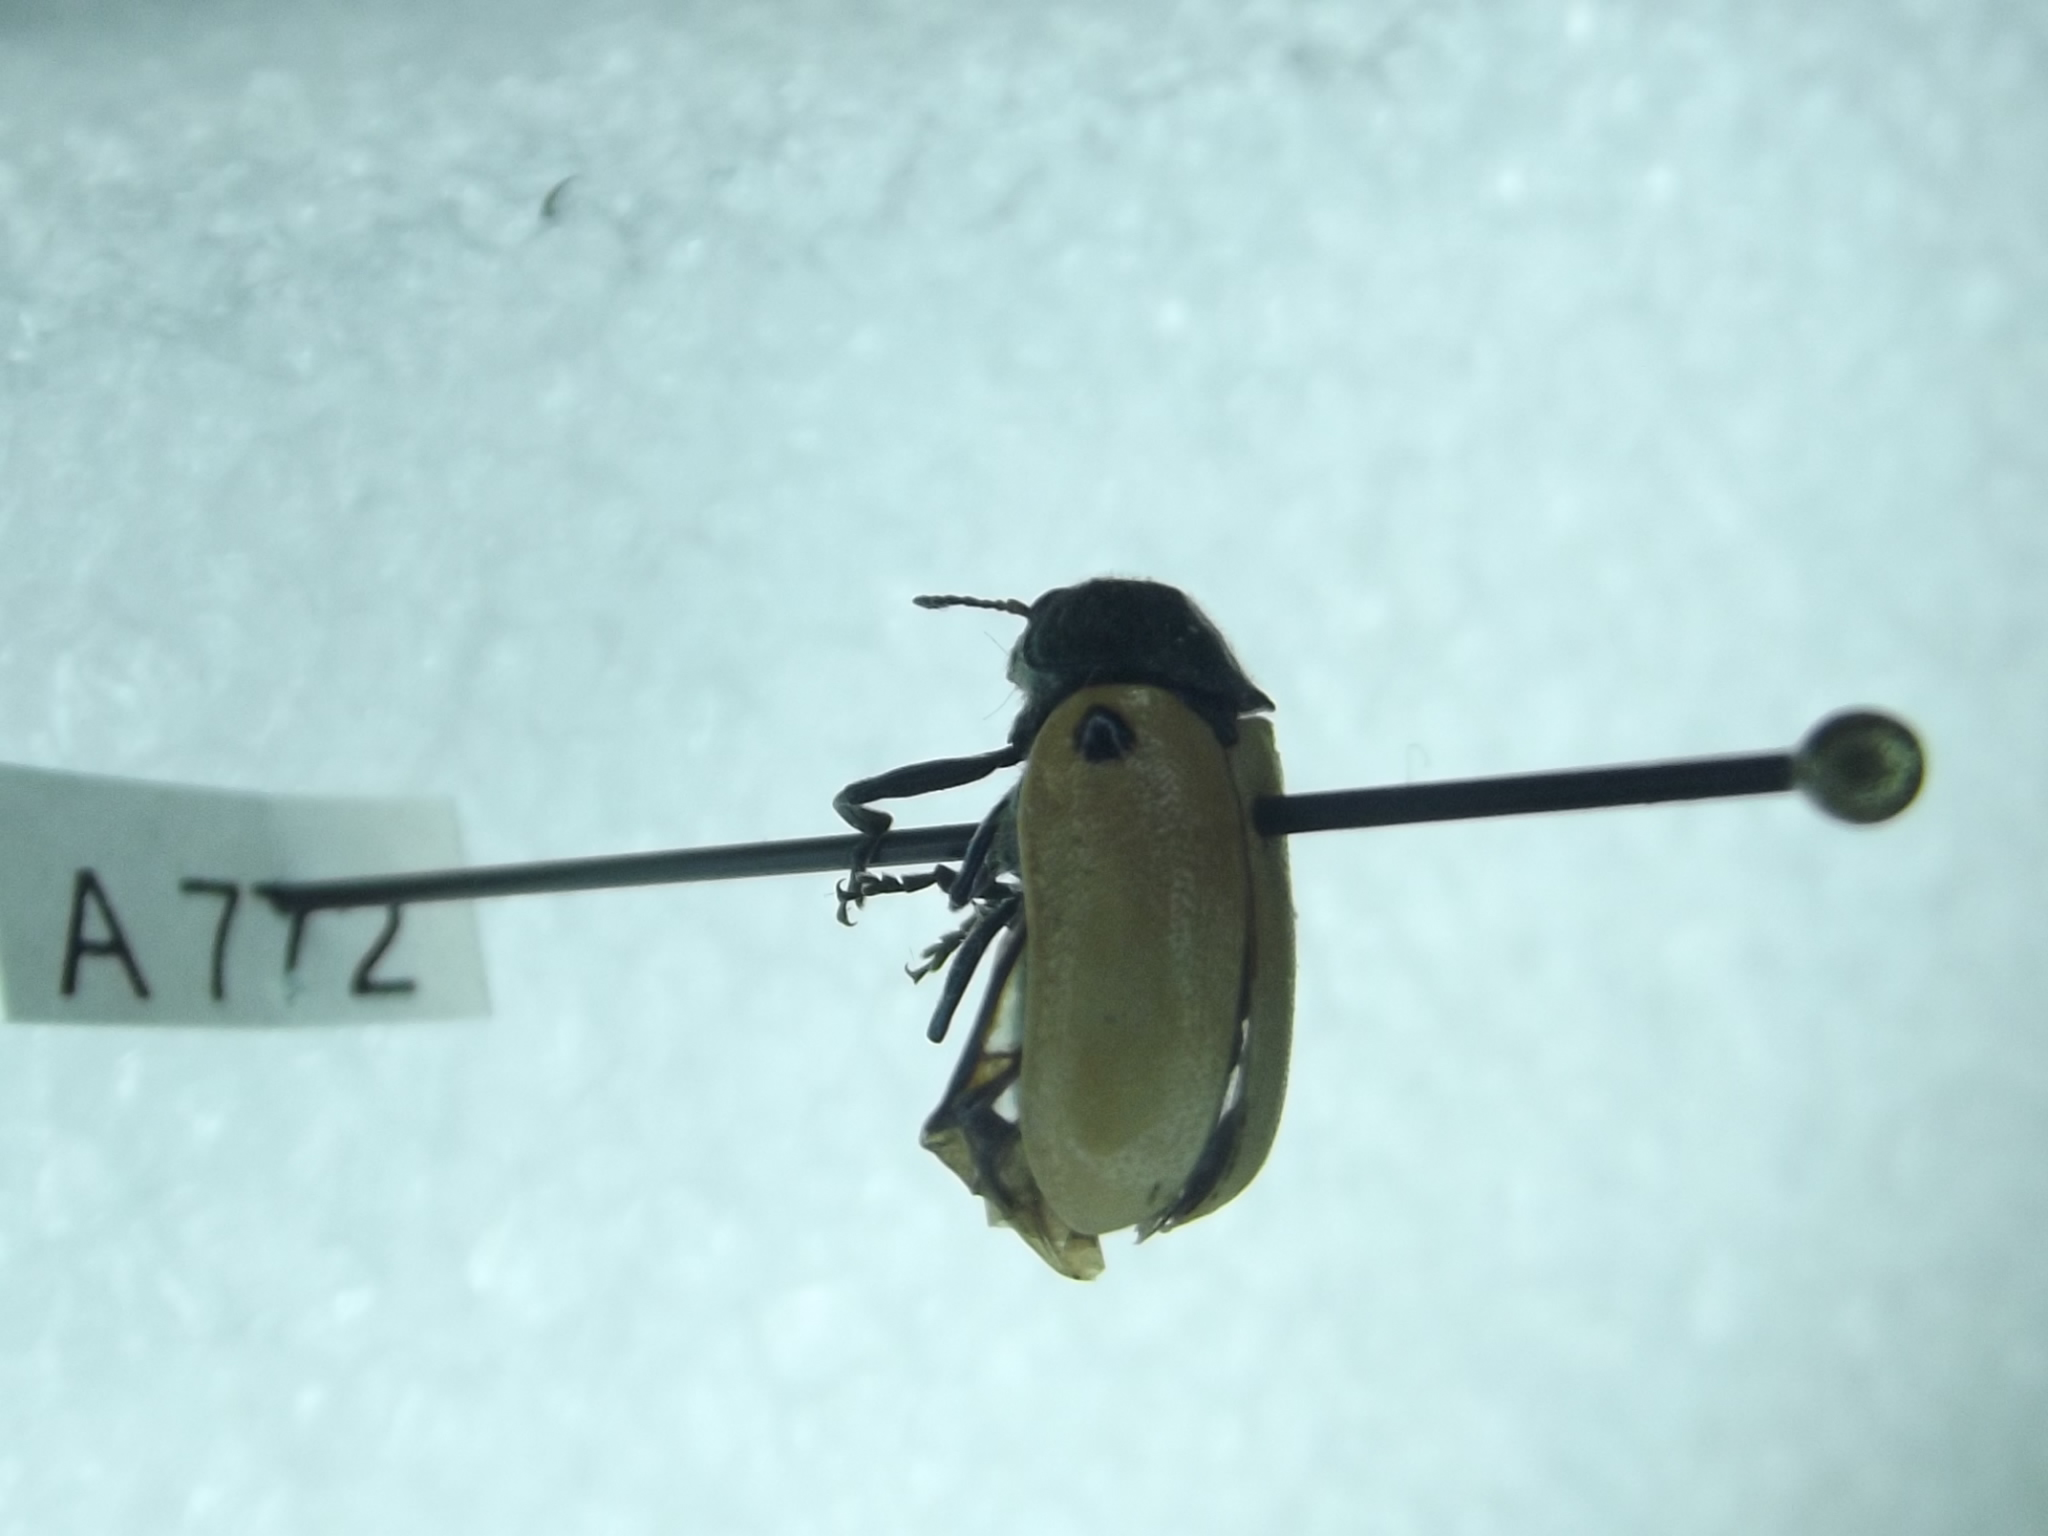Labidostomis_propinqua: (822, 574, 1314, 1291)
